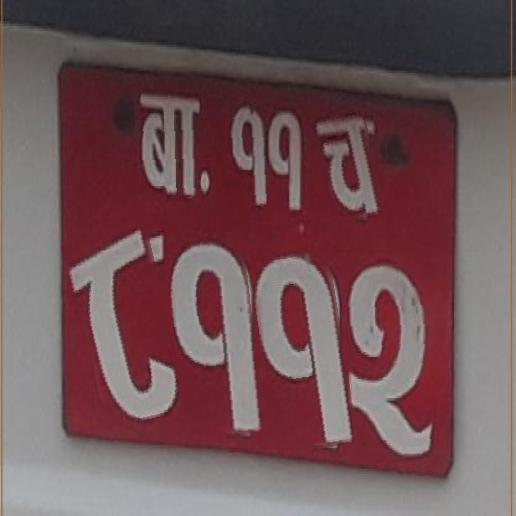1: (256, 252, 351, 453), (169, 239, 259, 440), (267, 108, 306, 212), (229, 107, 268, 206)
2: (346, 263, 437, 463)
8: (72, 230, 180, 430)
ba: (138, 92, 199, 198)
cha: (316, 108, 382, 224)
